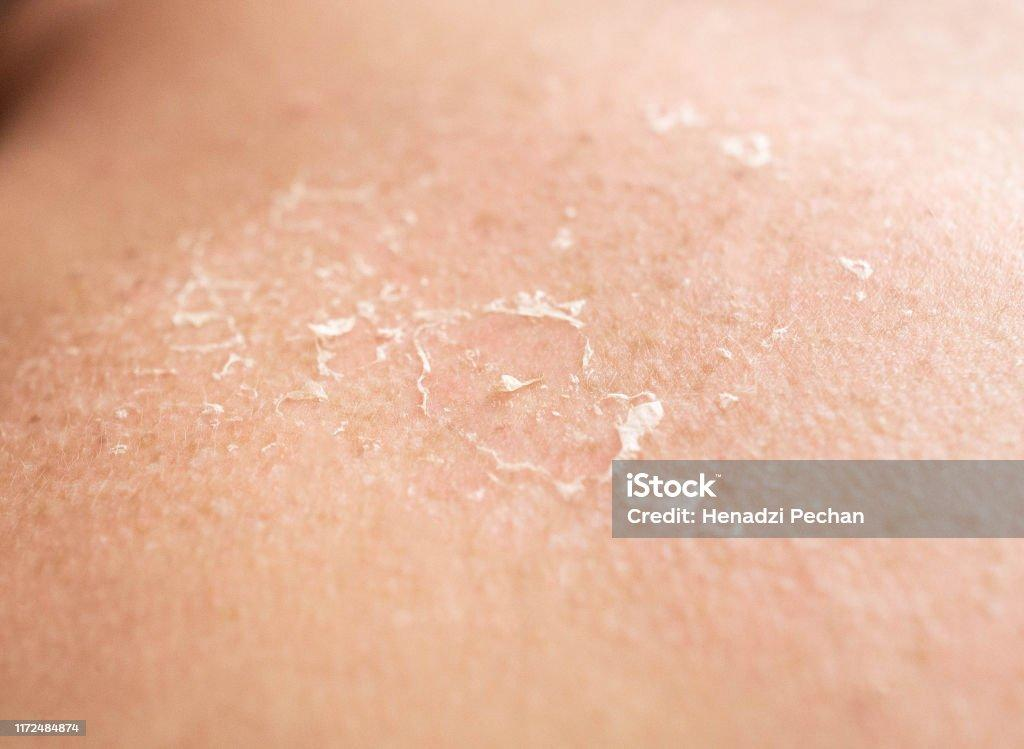Dry-Skin: (336, 132, 660, 538), (770, 128, 1004, 484), (76, 210, 284, 506)
